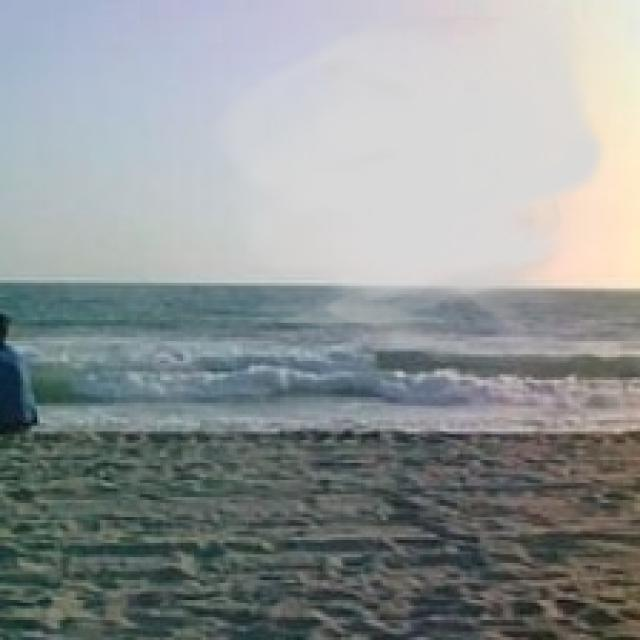smoke: (203, 3, 608, 371)
